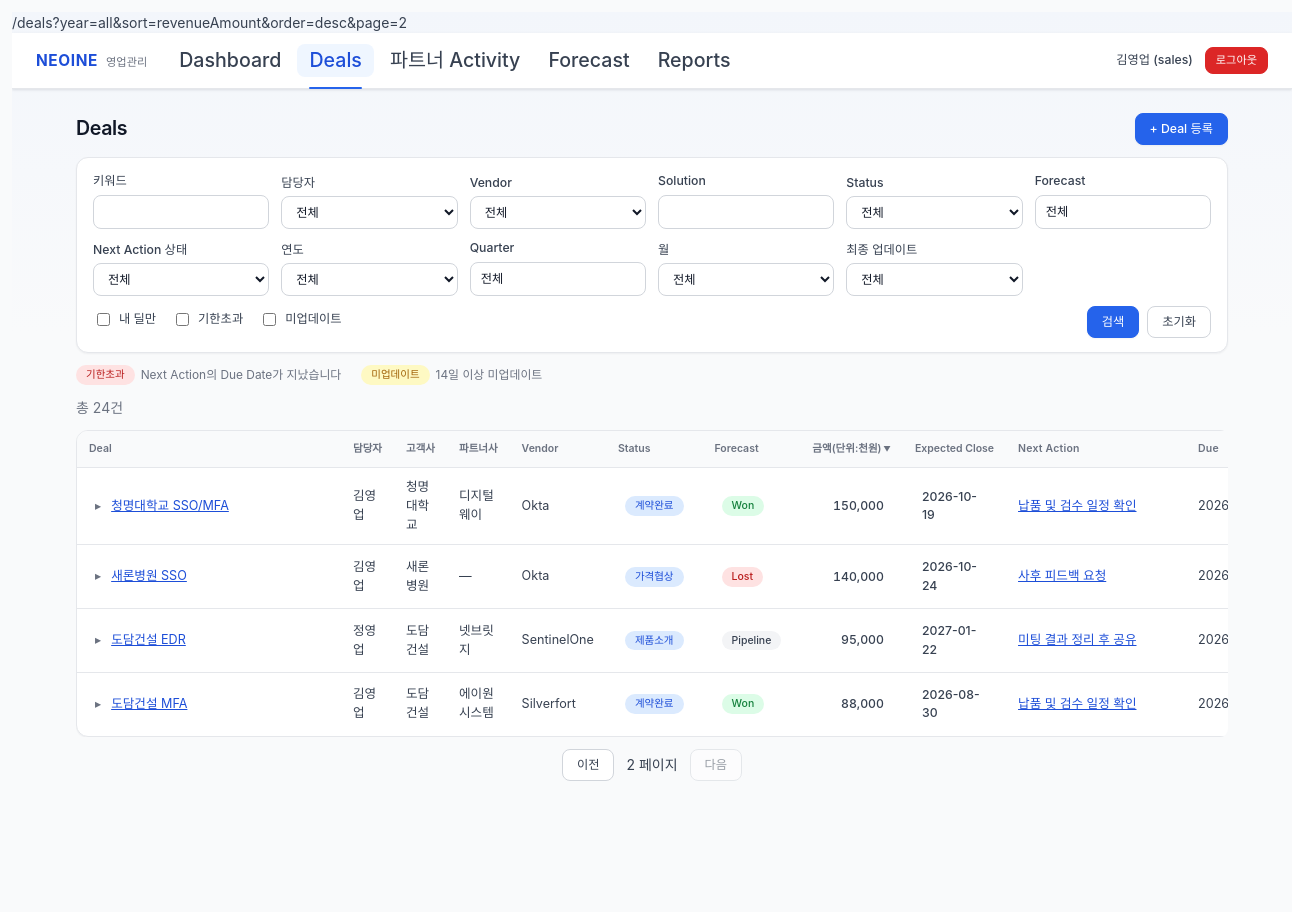
상세에서 목록으로 (AC-01, AC-02, AC-03, AC-11) › back link on detail keeps the page number
Check: the button "이전" is shown, box [562,749,614,781]
What coordinates should you click on to do the following:
click the link "청명대학교 SSO/MFA"
I would click on:
 (170, 506)
Its box is [111,497,229,516].
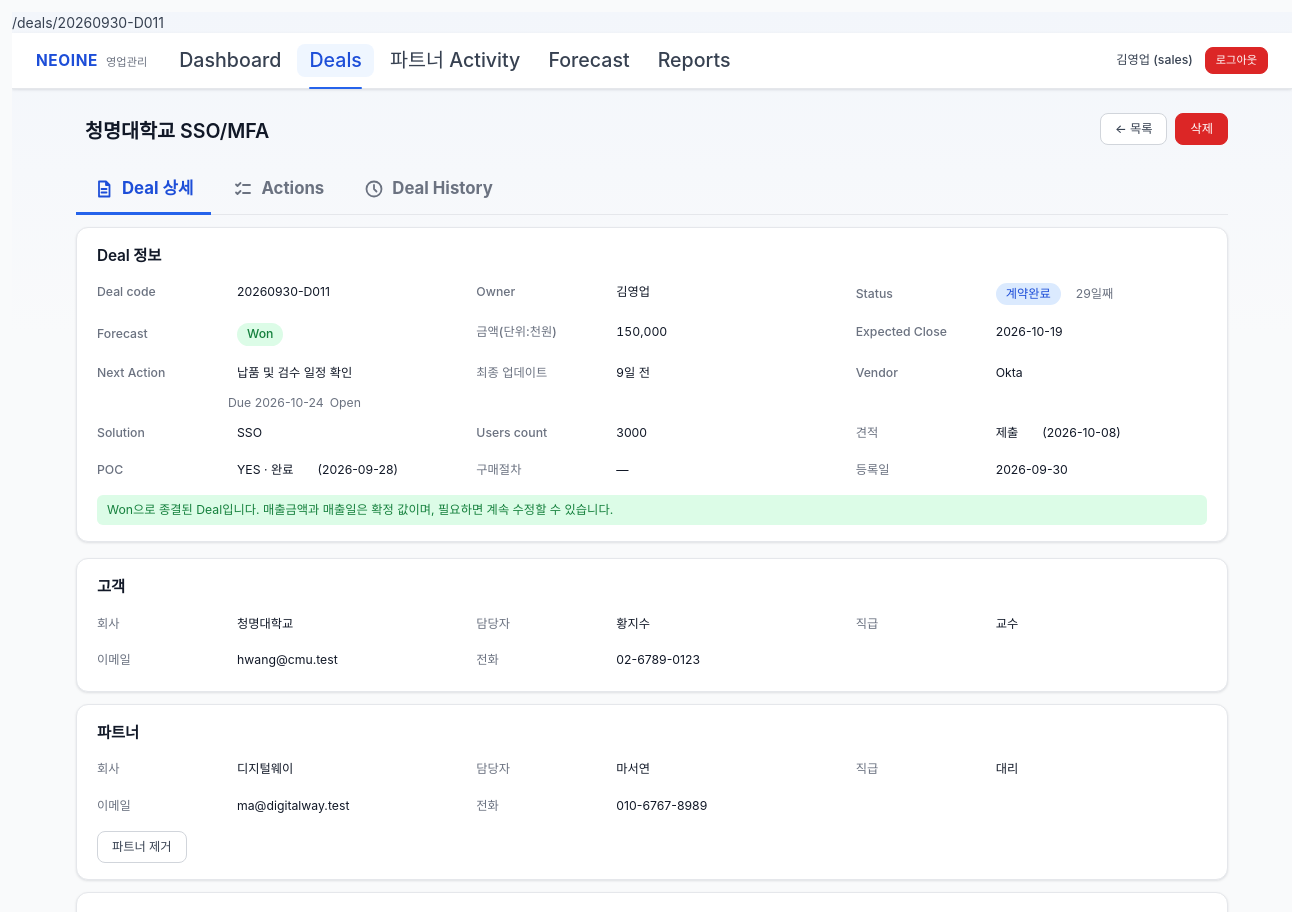
Check: the heading "청명대학교 SSO/MFA" is shown, box [76,113,278,150]
What coordinates should you click on to do the following:
click the link "← 목록"
I would click on:
 (1134, 129)
Its box is [1100,113,1168,145].
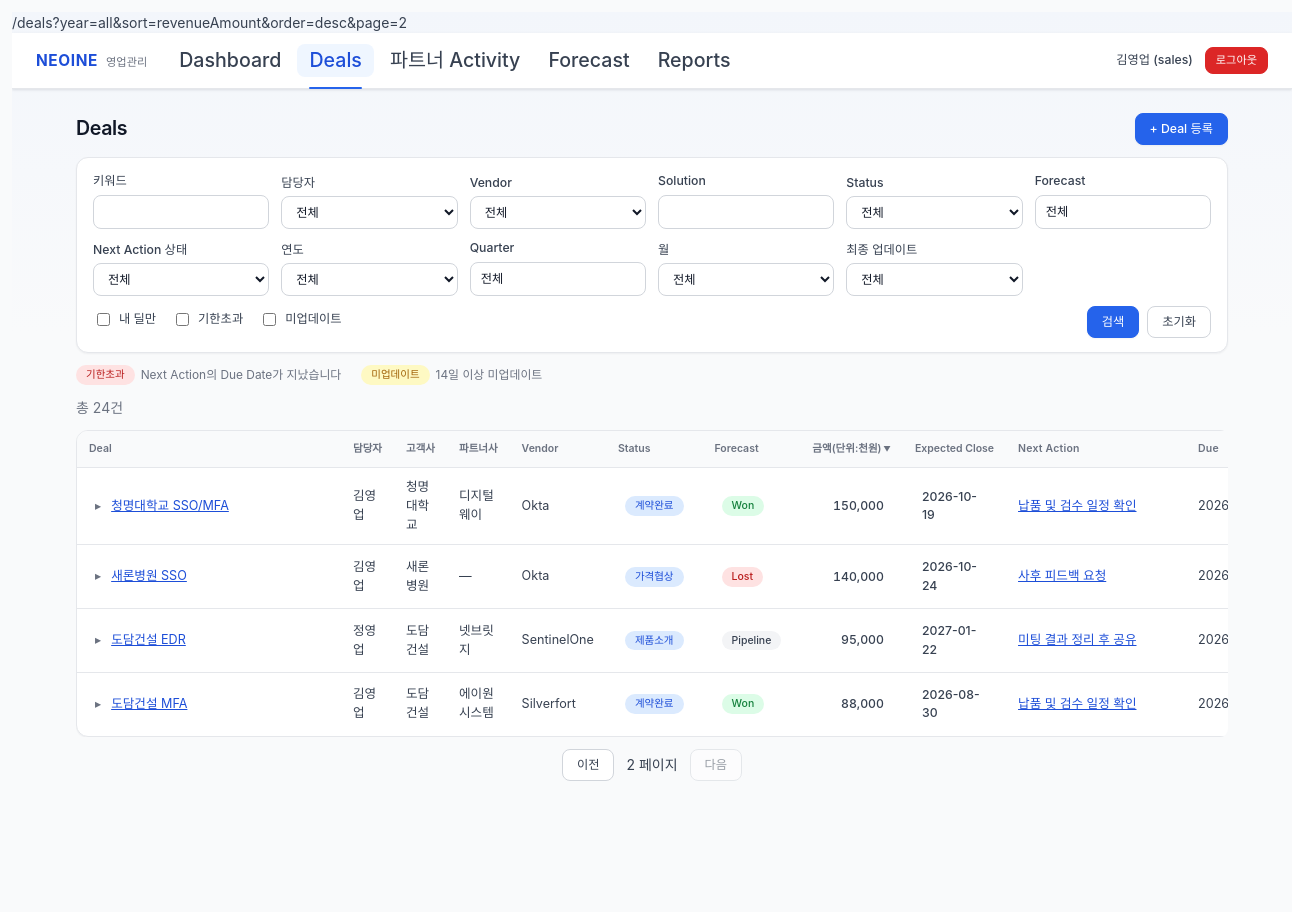
Check: the button "이전" is shown, box [562,749,614,781]
Check: the text with test id "location" reads "/deals?year=all&sort=revenueAmount&order=desc&page=2", box [12,14,407,31]
